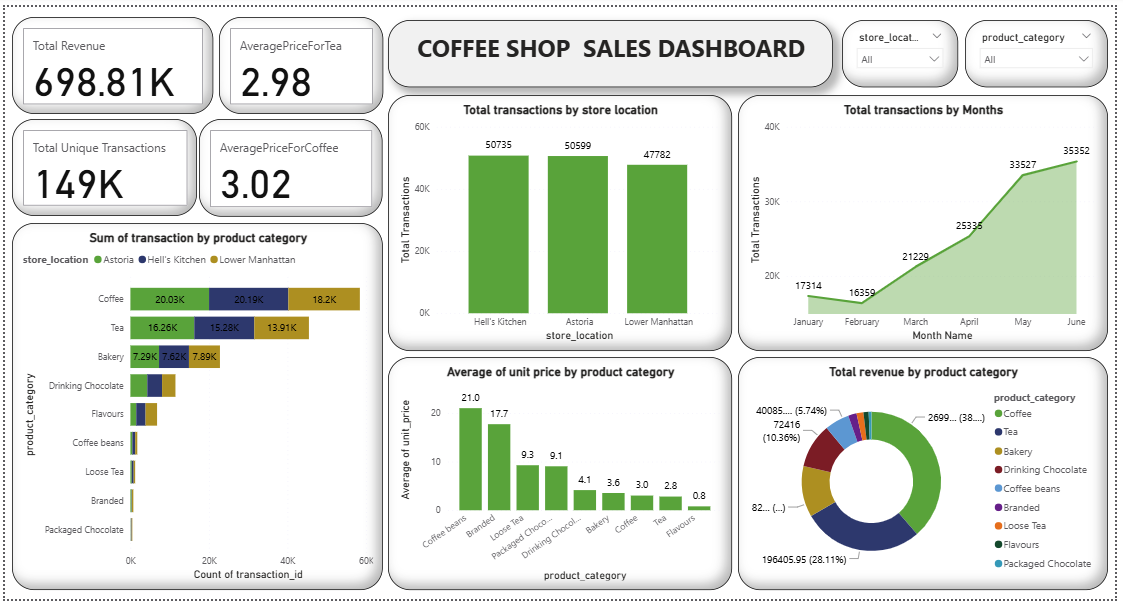

What the dashboard file says about the page in this screenshot:
{"tool":"powerbi","page":{"name":"Page 1","canvas":[1500,800],"ordinal":0},"visuals":[{"type":"textbox","box":[517.4,16.9,601,90.5],"z":0},{"type":"donutChart","title":"Total revenue by product category","fields":{"Category":["Bright Coffee Shop Analysis - T.product_category"],"Y":["Bright Coffee Shop Analysis - T.Total Revenue"]},"box":[991,473.6,499.5,315.4],"z":1000},{"type":"slicer","title":"Total # of Positions","fields":{"Values":["Bright Coffee Shop Analysis - T.store_location"]},"box":[1131.3,16.9,157.2,90.5],"z":2000},{"type":"cardVisual","title":"Total # of Positions","fields":{"Data":["Bright Coffee Shop Analysis - T.Total Unique Transactions"]},"box":[9,151.3,250,130.8],"z":3000},{"type":"cardVisual","title":"Total # of Positions","fields":{"Data":["Bright Coffee Shop Analysis - T.AveragePriceForCoffee"]},"box":[262.7,151.2,247.8,132.3],"z":4000},{"type":"cardVisual","title":"Total # of Positions","fields":{"Data":["Bright Coffee Shop Analysis - T.AveragePriceForTea"]},"box":[288.6,13.9,221.9,131.3],"z":5000},{"type":"areaChart","title":"Total transactions by Months","fields":{"Y":["Bright Coffee Shop Analysis - T.Total Transactions"],"Category":["Bright Coffee Shop Analysis - T.Month Name"]},"box":[991,119.4,499.5,346.3],"z":6000},{"type":"columnChart","title":"Total transactions by  store location","fields":{"Y":["Bright Coffee Shop Analysis - T.Total Transactions"],"Category":["Bright Coffee Shop Analysis - T.store_location"]},"box":[517.4,119.4,464.7,346.3],"z":7000},{"type":"columnChart","title":"Average of unit price by product category","fields":{"Y":["Avg(Bright Coffee Shop Analysis - T.unit_price)"],"Category":["Bright Coffee Shop Analysis - T.product_category"]},"box":[517.4,473.6,464.7,315.4],"z":8000},{"type":"barChart","title":"Sum of transaction by product category","fields":{"Category":["Bright Coffee Shop Analysis - T.product_category"],"Series":["Bright Coffee Shop Analysis - T.store_location"],"Y":["CountNonNull(Bright Coffee Shop Analysis - T.transaction_id)"]},"box":[9,292.5,501.5,495.5],"z":9000},{"type":"slicer","title":"Total # of Positions","fields":{"Values":["Bright Coffee Shop Analysis - T.product_category"]},"box":[1297.5,16.9,193,90.5],"z":10000},{"type":"cardVisual","title":"Total # of Positions","fields":{"Data":["Bright Coffee Shop Analysis - T.Total Revenue"]},"box":[9,13.9,271.6,131.3],"z":11000}]}

Visuals, with their boxes in screenshot pixels (x1, y1, x2, y2), scaled from the page's 1500x800 canvas onto the 1123x604 screenshot:
textbox: box(387, 13, 837, 81)
"Total revenue by product category" donutChart: box(742, 358, 1116, 596)
"Total # of Positions" slicer: box(847, 13, 965, 81)
"Total # of Positions" cardVisual: box(7, 114, 194, 213)
"Total # of Positions" cardVisual: box(197, 114, 382, 214)
"Total # of Positions" cardVisual: box(216, 10, 382, 110)
"Total transactions by Months" areaChart: box(742, 90, 1116, 352)
"Total transactions by  store location" columnChart: box(387, 90, 735, 352)
"Average of unit price by product category" columnChart: box(387, 358, 735, 596)
"Sum of transaction by product category" barChart: box(7, 221, 382, 595)
"Total # of Positions" slicer: box(971, 13, 1116, 81)
"Total # of Positions" cardVisual: box(7, 10, 210, 110)
